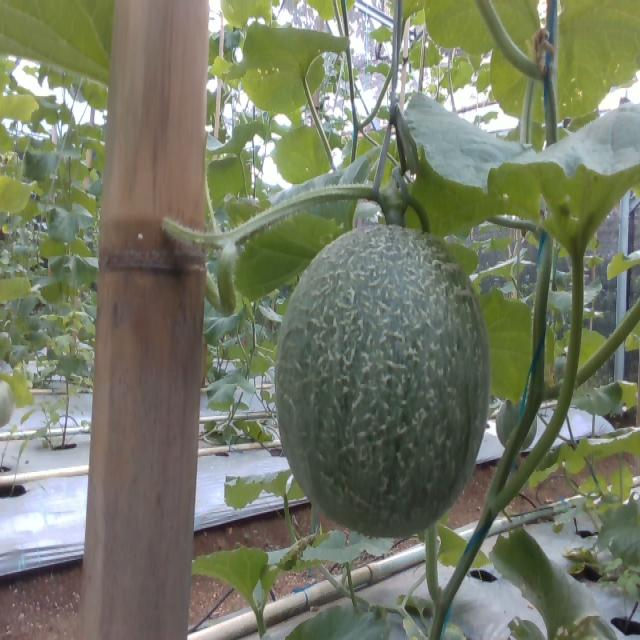melon: (276, 225, 491, 537)
